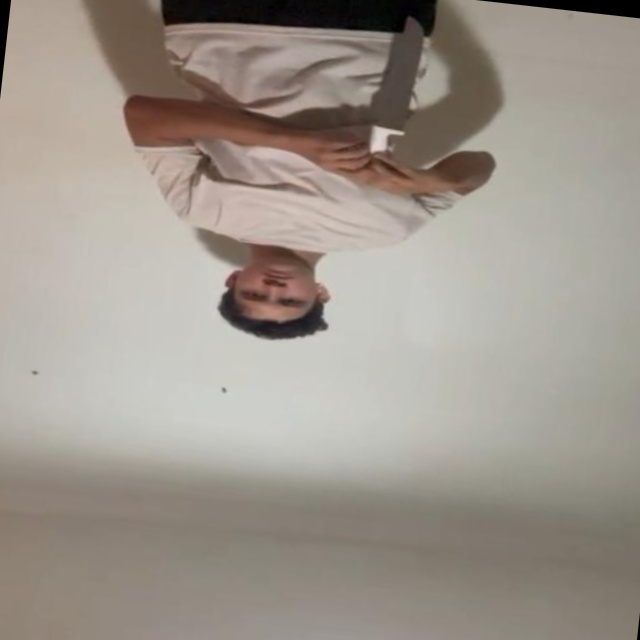Sharp-Object: (367, 15, 430, 132)
